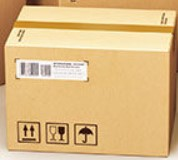stock: (4, 5, 175, 157)
